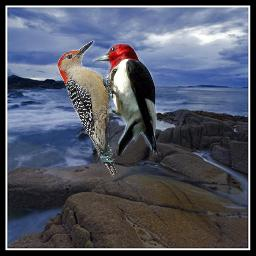Woodpecker: (58, 39, 118, 177), (91, 43, 158, 156)
